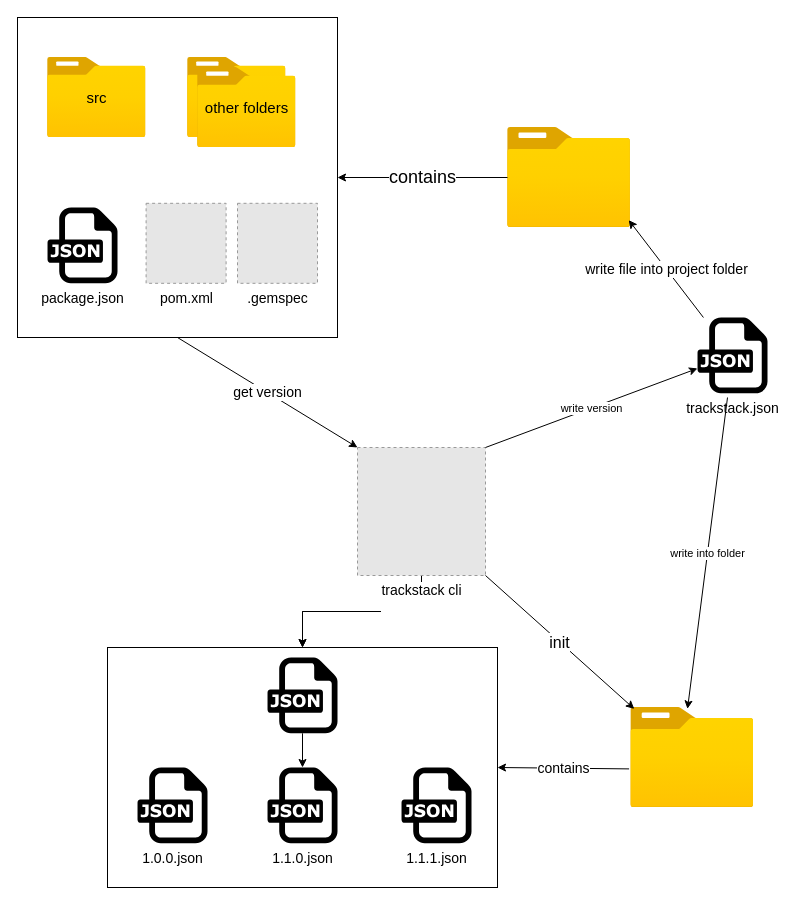
The diagram is 796 pixels wide and 905 high, and some of its shapes have lost their labels. Grey dashed boxes stand in for pictures. Here are the shapes that lost their labels. From the top down, the centre of each, then its label:
At [568,177]: "microservice folder".
At [302,694]: "nextVersion.json".
At [691,757]: "project folder".
